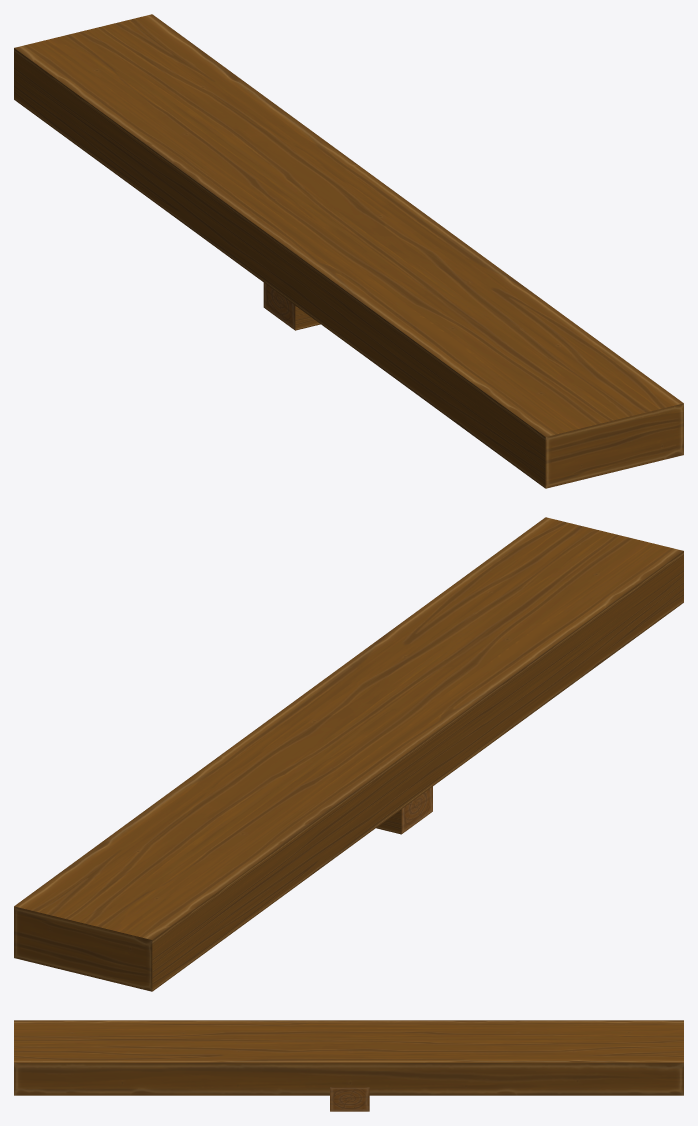
Rendered from SM_House_Floor_5x4_Overang_Beam.fbx.
The picture shows the model from 3 angles, top to bottom: view 1: azimuth 30°, elevation 25°; view 2: azimuth 150°, elevation 25°; view 3: azimuth 270°, elevation 25°; orthographic projection. The views are drawn at different scales.
Parts seen in each view (by area): view 1: SM_House_Floor_5x4_Overang_Beam; view 2: SM_House_Floor_5x4_Overang_Beam; view 3: SM_House_Floor_5x4_Overang_Beam.
Boxes of the visible parts, bbox=[...] form: SM_House_Floor_5x4_Overang_Beam: bbox=[14, 14, 683, 488]; SM_House_Floor_5x4_Overang_Beam: bbox=[14, 517, 683, 991]; SM_House_Floor_5x4_Overang_Beam: bbox=[14, 1020, 683, 1111].
Bounding box in the file's own units: 0.7519 × 0.4 × 5.
